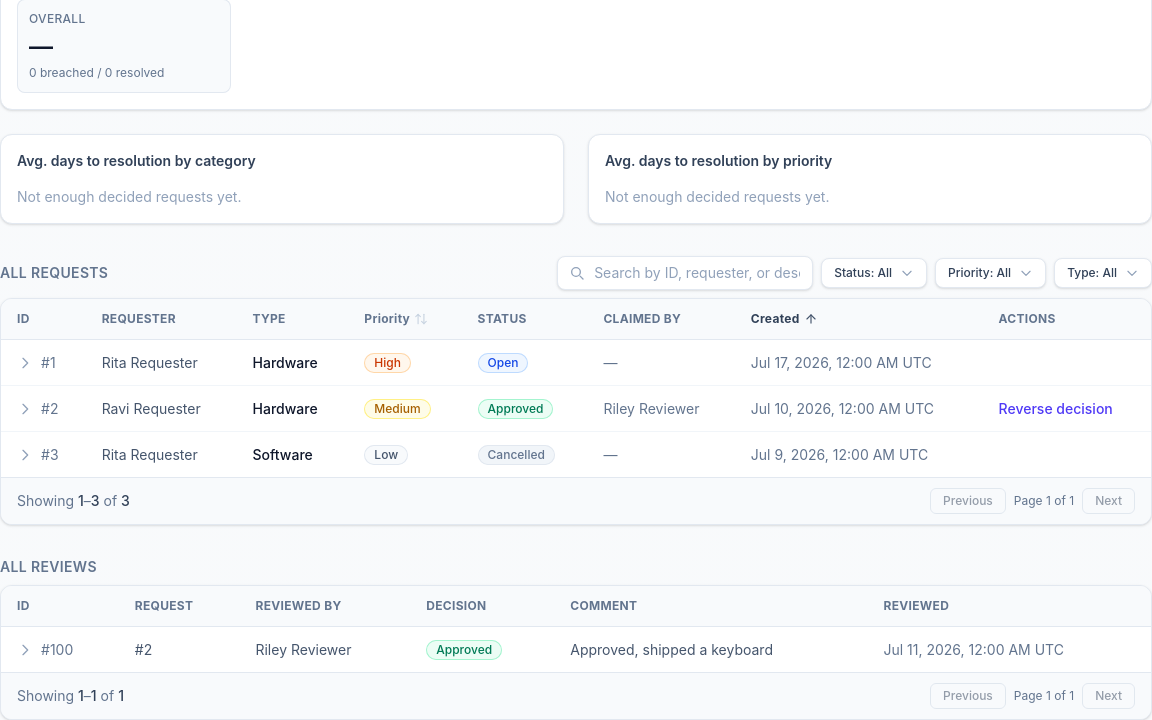
Test: AdminDashboardPage — expandable request/review detail › expands a row in "All requests" to show the shared RequestDetailPanel (description, SLA badge)
The image size is (1152, 720).
(page scrolled)
Expected: the text "Need a monitor" is not shown
Click the text "#1": click(25, 362) [17,354,56,370]
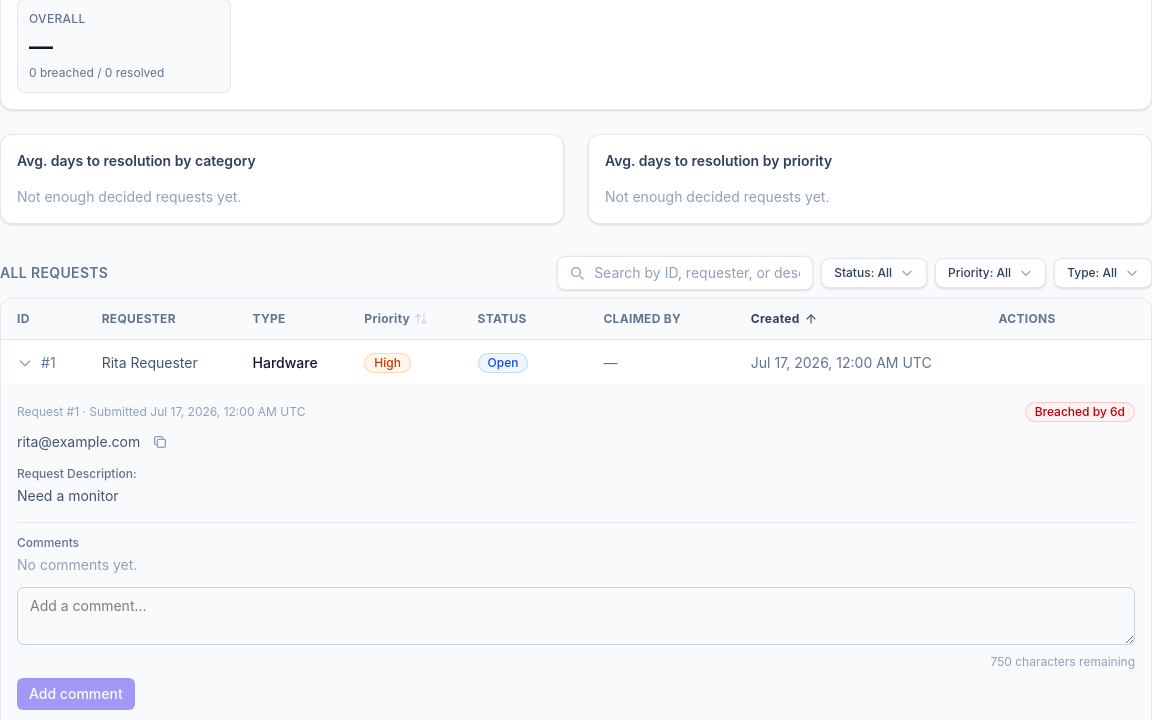
Result: the text "Need a monitor" is shown at [17,487,119,504]
Result: the text "Breached by 6d" is shown at [1025,402,1135,422]
